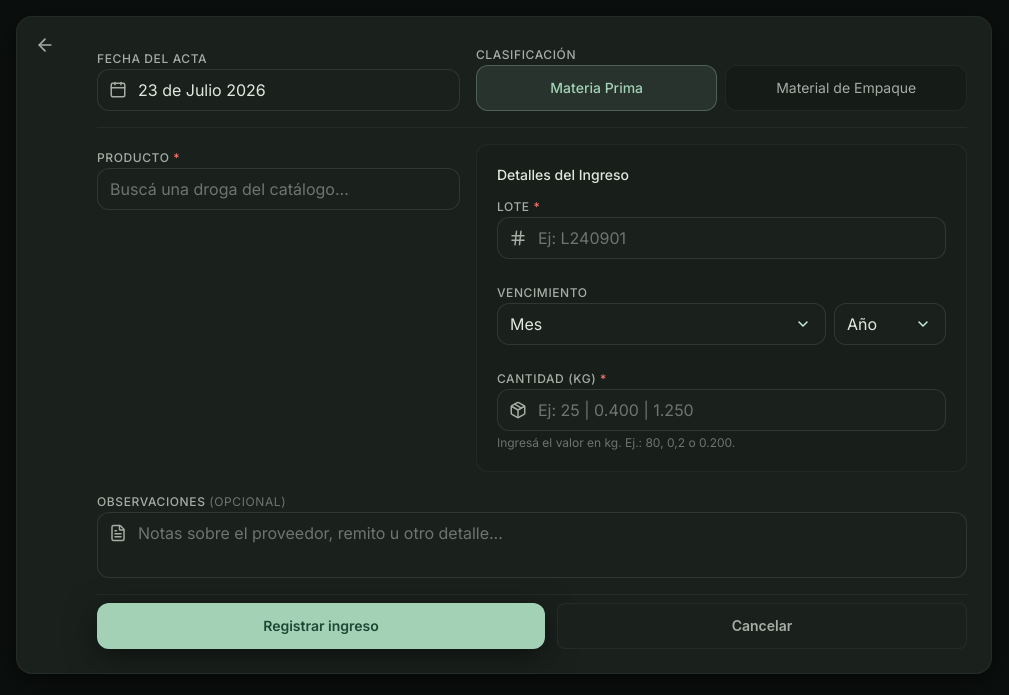
it: ActaNuevaPage › requires a lot reference after selecting a tapa or prospecto
The image size is (1009, 695).
Click the button "Material de Empaque" at (846, 88), box [726,65,967,111]
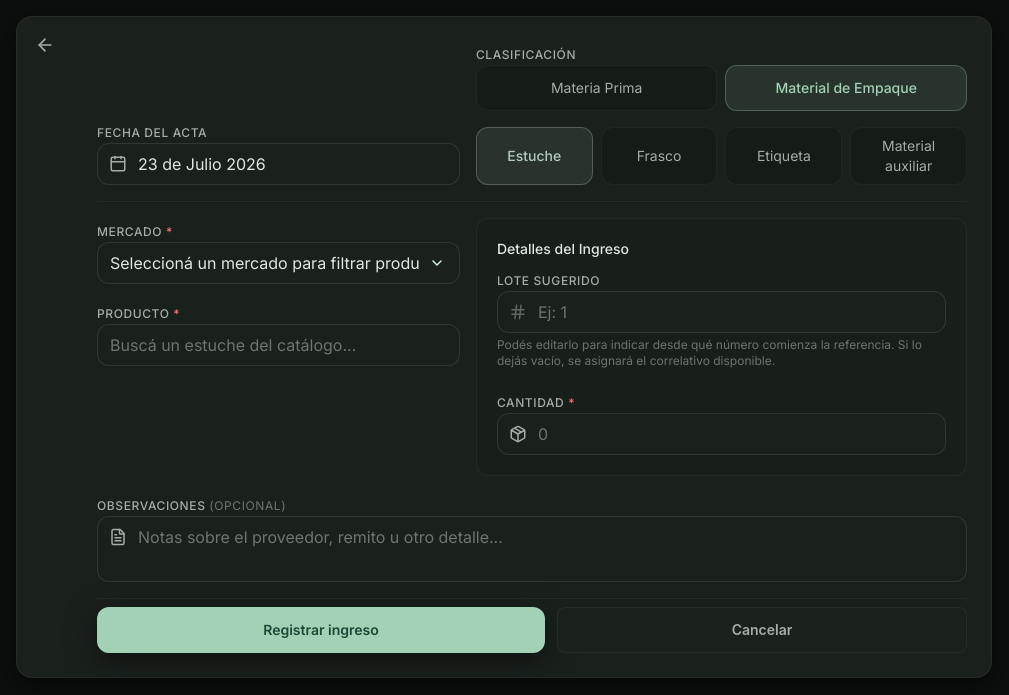
Click the button "Material auxiliar" at (909, 156), box [850,127,967,185]
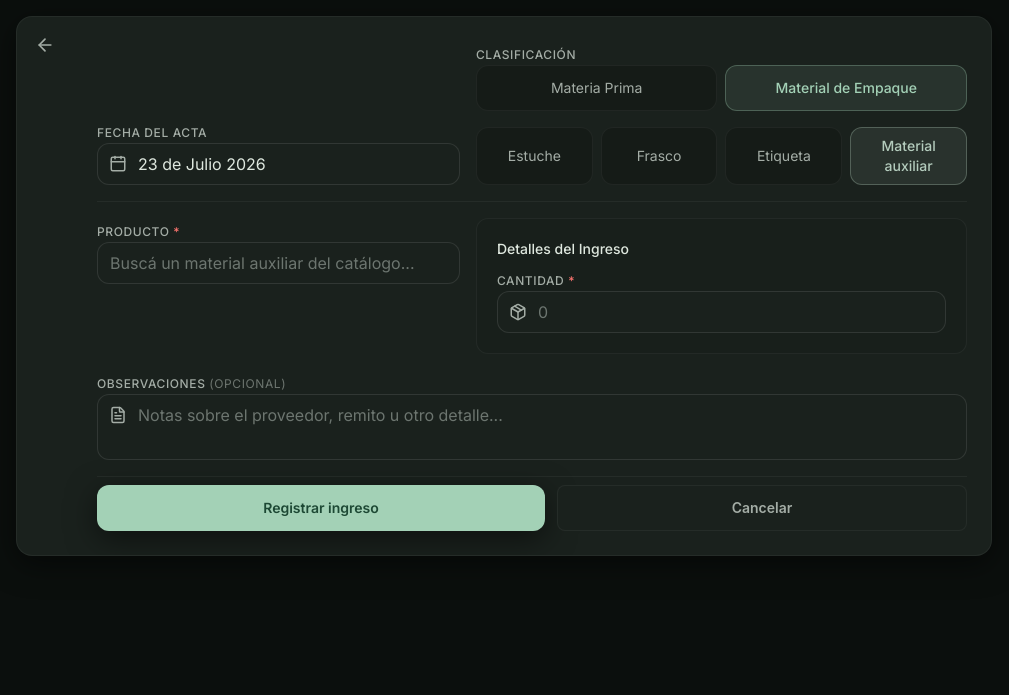
Type "TAPA VERDE" into the dropdown with placeholder "Buscá un material auxiliar del catálogo..." at (278, 263), box [97,242,460,284]
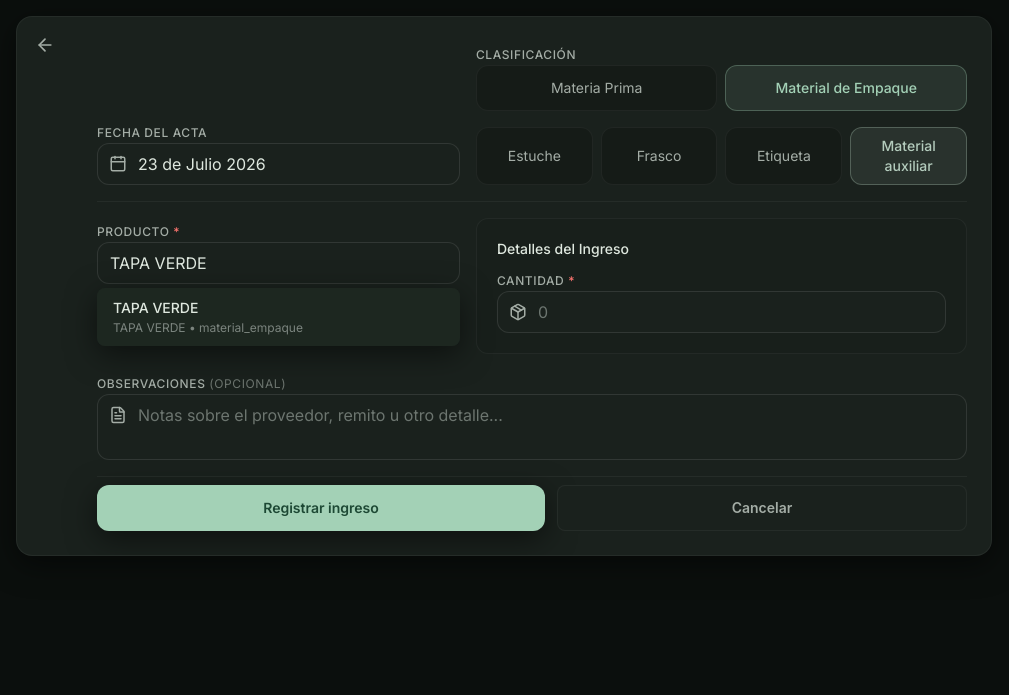
Press the mouse on the text "TAPA VERDE" at (156, 308), box [113,299,198,316]
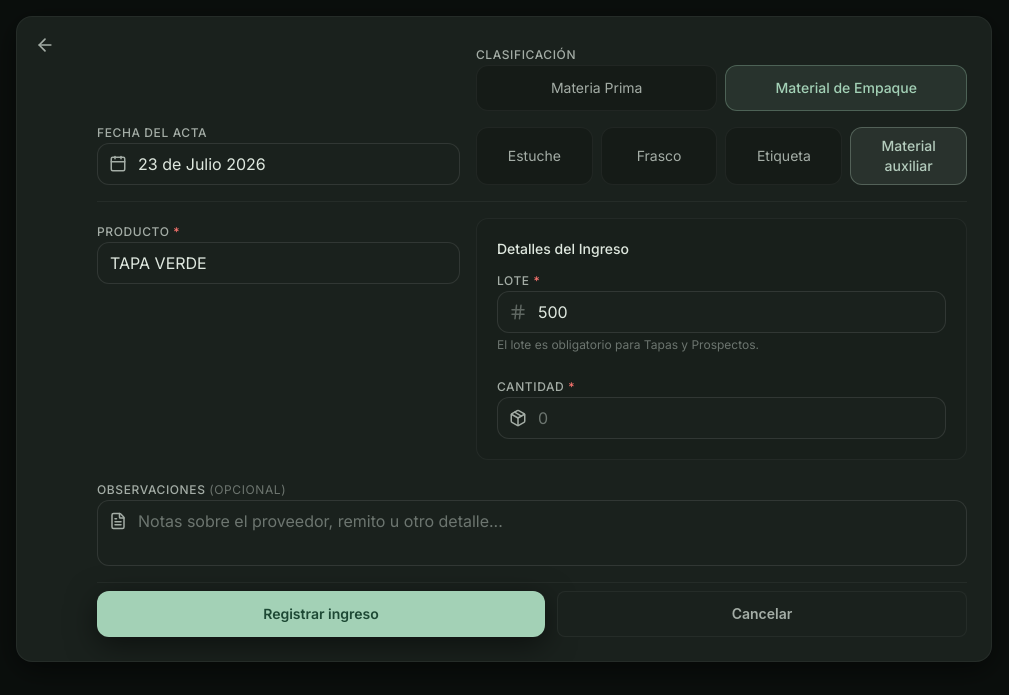
Result: the field labelled "Lote *" holds "500" at [497,291,946,333]
Result: the text "El lote es obligatorio para Tapas y Prospectos." is shown at [497,337,759,352]
